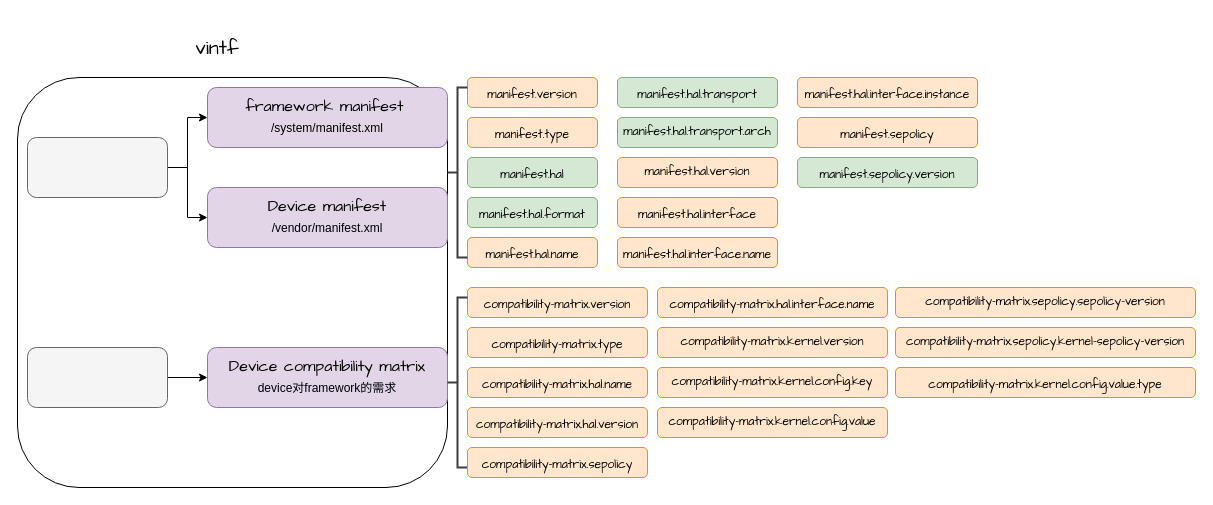
Image size: 1213x505. Some labels were removed from this diagram. The centre of each missing label's shape, as x and y in pixels:
"manifest 提供给对方的feature" belongs at point 97,167.
"Matrix 需要对方提供的feature" belongs at point 97,377.
